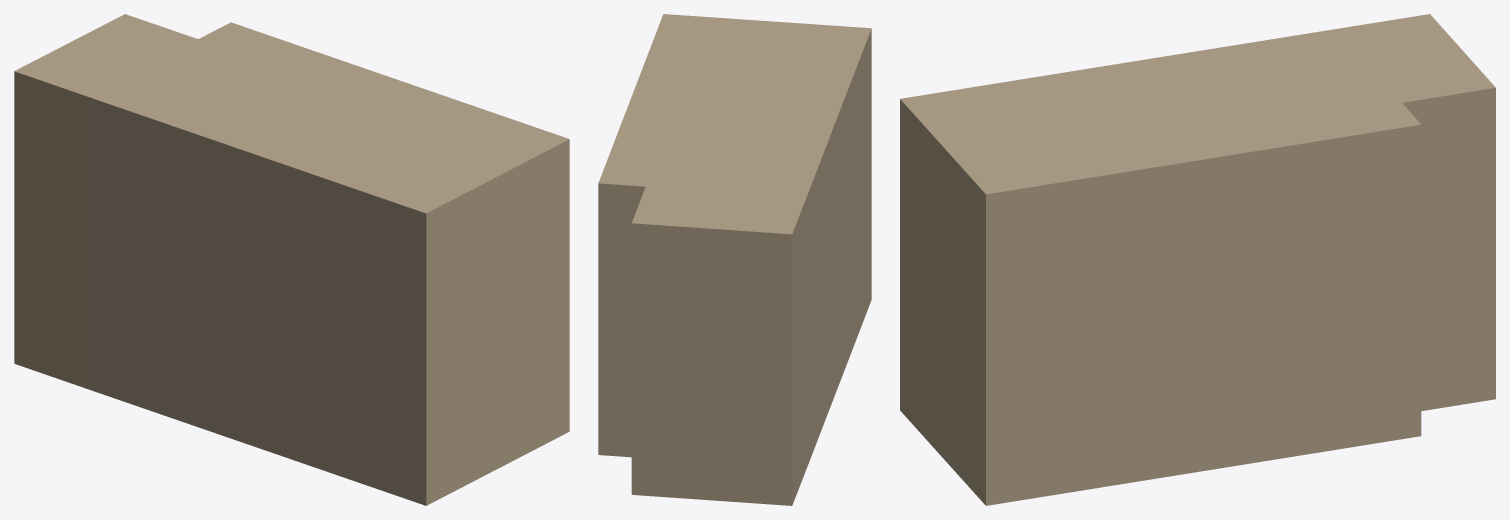
The model's file is bld_107610414.dae.
3 views of the same model, side by side, from view 1: azimuth 30°, elevation 25°; view 2: azimuth 150°, elevation 25°; view 3: azimuth 270°, elevation 25° (orthographic). The views are drawn at different scales.
Parts seen in each view (by area): view 1: bld_107610414; view 2: bld_107610414; view 3: bld_107610414.
Boxes of the visible parts, box(x1,y1,x2,y2) form: bld_107610414: box(14, 14, 569, 505); bld_107610414: box(598, 14, 871, 505); bld_107610414: box(900, 14, 1495, 505).
Bounding box in the file's own units: 9.94 × 13.87 × 8.
